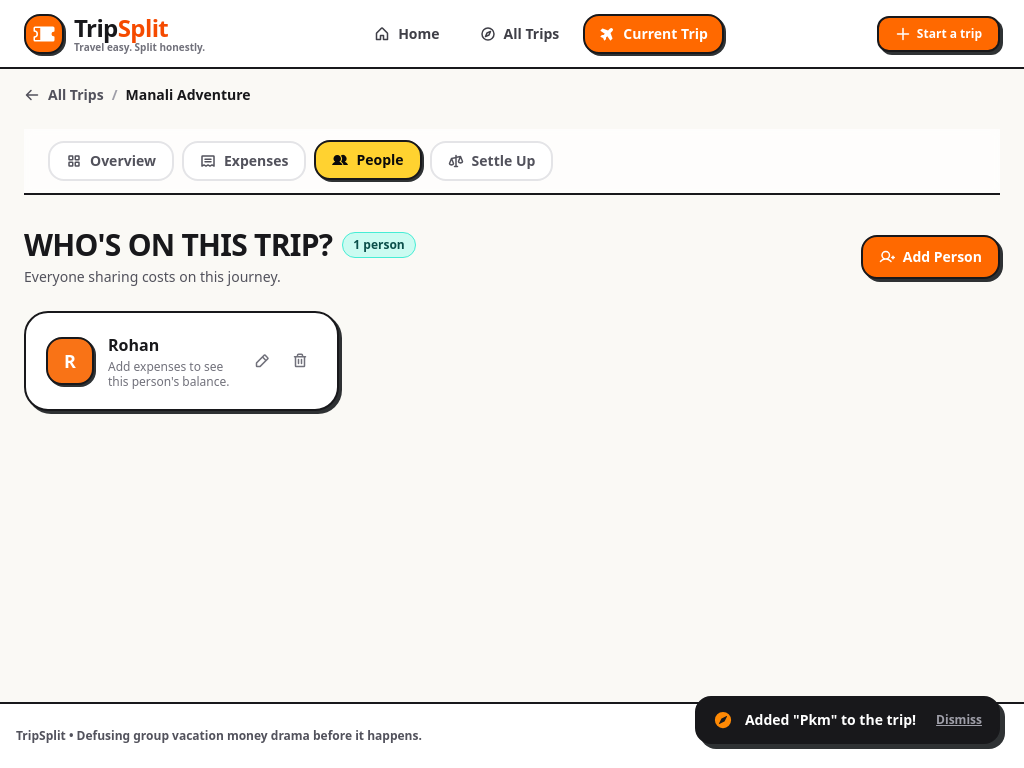
Test: People / Participant Management UI Flow › edits a participant name while preserving their identity
The width and height of the screenshot is (1024, 768).
expect the heading "Rohan" is shown: met, box [108,334,159,356]
Note: Click edit button
Click the button named "Edit Rohan" at (262, 361), box [245,344,279,378]
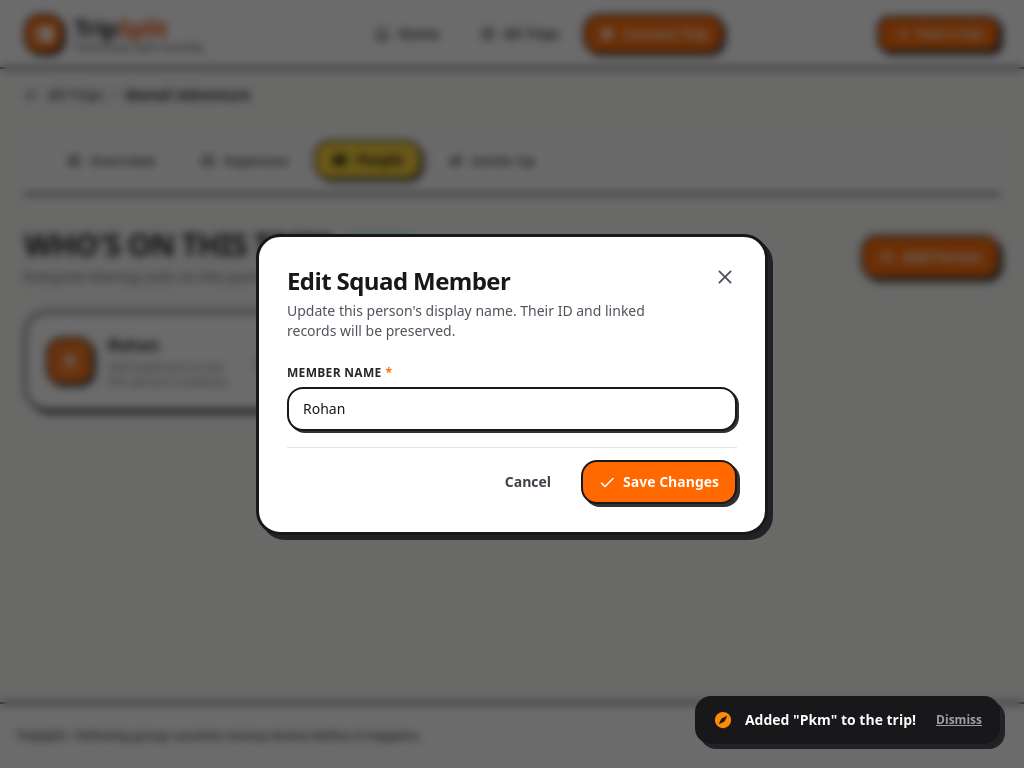
expect the heading "Edit Squad Member" is shown: met, box [287,264,510,296]
expect the field labelled "Member Name *" holds "Rohan": met
Replace the text in the field labelled "Member Name *" with "Rohan Sharma" at (512, 408), box [287,386,737,430]
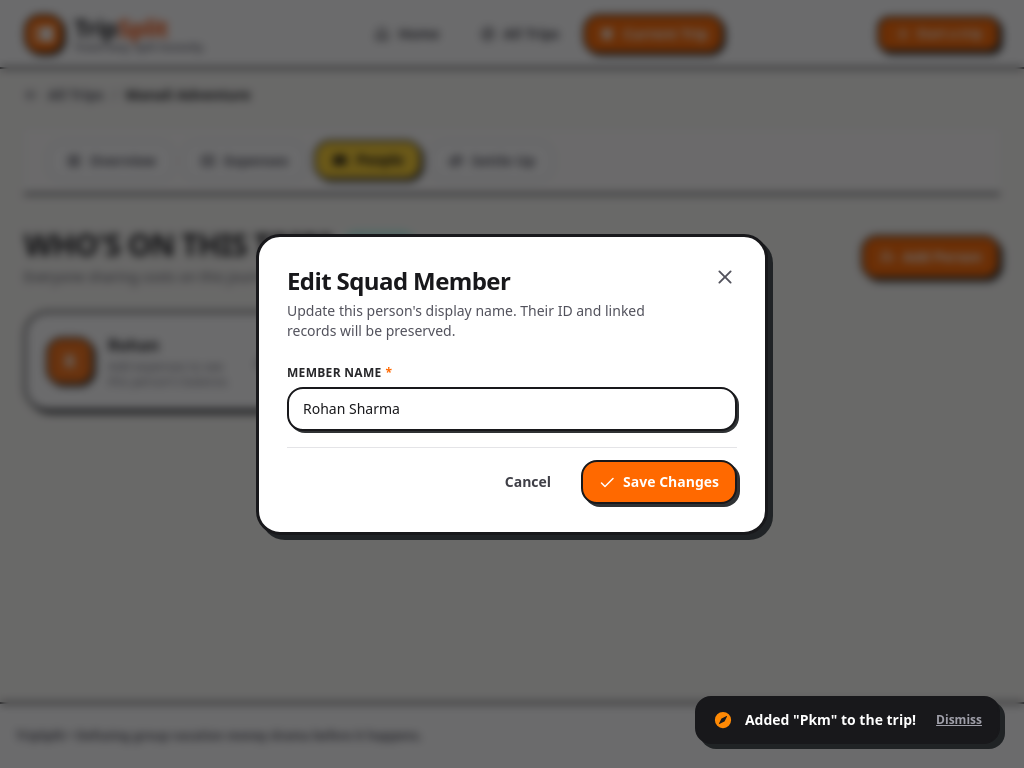
Click the button "Save Changes" at (659, 482), box [581,460,737,504]
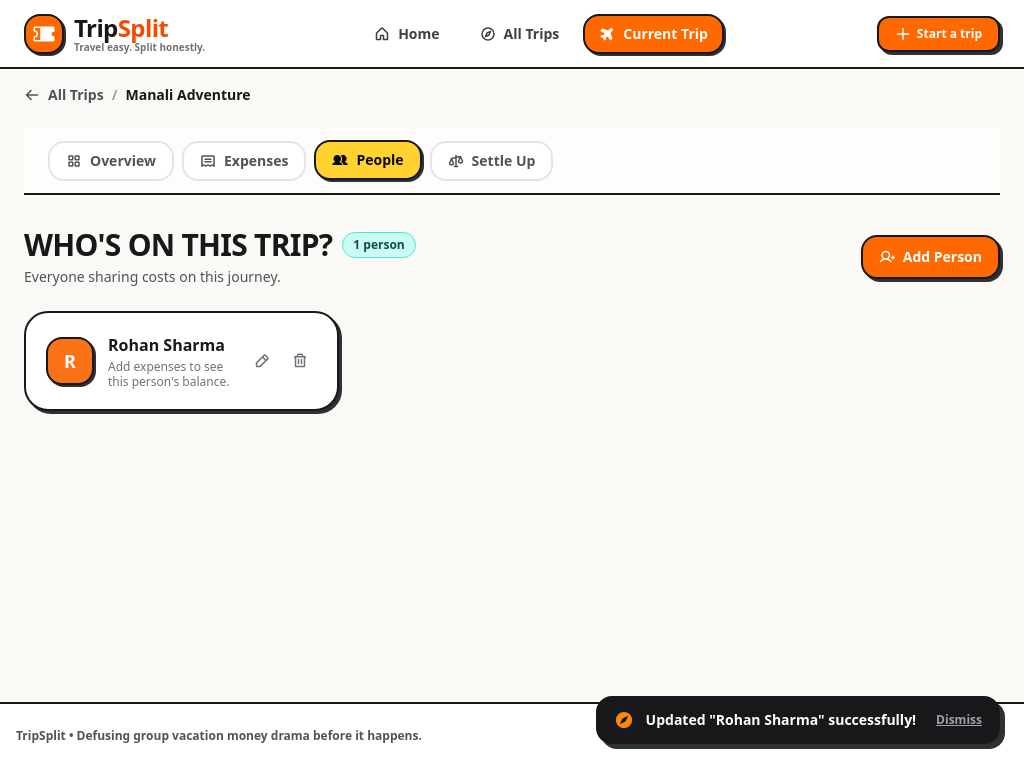
expect the heading "Rohan Sharma" is shown: met, box [108,333,233,357]
